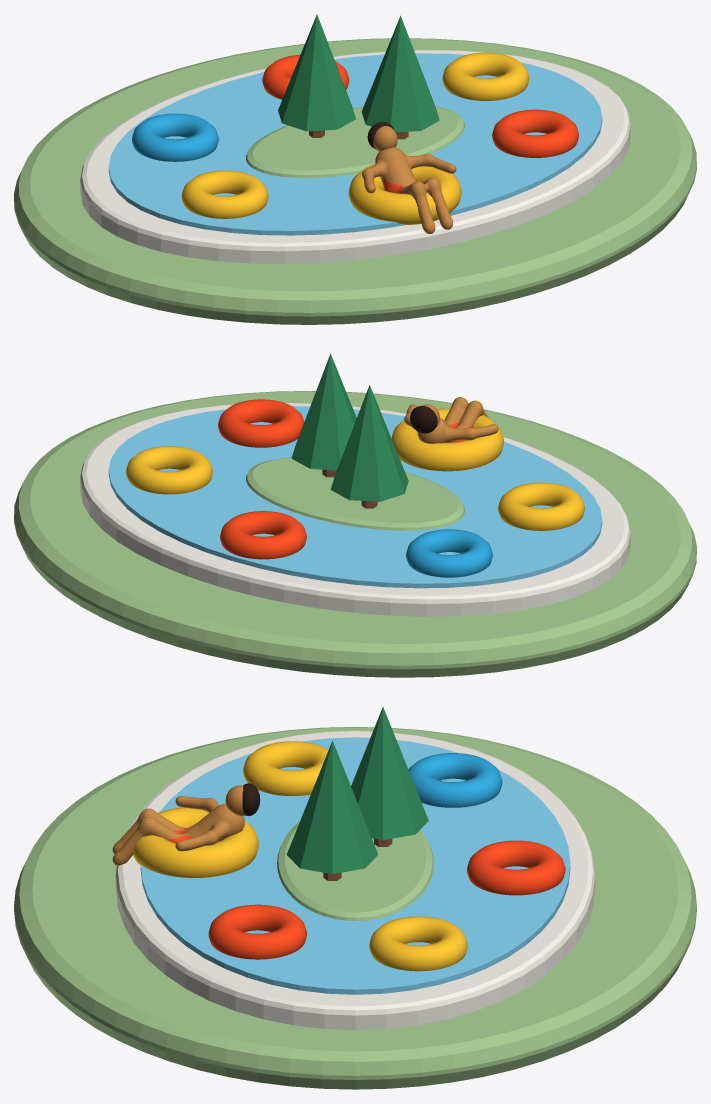
File: 02-lazy-river.glb
3 views of the same model, one above another, from view 1: azimuth 30°, elevation 25°; view 2: azimuth 150°, elevation 25°; view 3: azimuth 270°, elevation 25° (orthographic). The views are drawn at different scales.
Visible parts, largest first — view 1: Base.001, River Water, River Deck, Island, Island Pine, Island Pine.001, Body 001, Inner Tube.002, Inner Tube, Inner Tube.003, Inner Tube.005, Inner Tube.004 (+2 smaller); view 2: Base.001, River Water, River Deck, Island, Island Pine, Island Pine.001, Inner Tube.004, Inner Tube.003, Inner Tube, Inner Tube.001, Inner Tube.002, Inner Tube.005 (+2 smaller); view 3: Base.001, River Water, River Deck, Island, Island Pine.001, Island Pine, Inner Tube.004, Inner Tube.005, Inner Tube.001, Inner Tube, Inner Tube.002, Body 001 (+1 smaller).
Part boxes in pixels (box(x1,y1,x2,y2)): Base.001: box(14, 38, 696, 324); River Water: box(108, 53, 602, 235); River Deck: box(80, 50, 630, 264); Island: box(246, 106, 464, 177); Island Pine: box(278, 14, 355, 131); Island Pine.001: box(361, 15, 439, 132); Body 001: box(362, 147, 456, 233); Inner Tube.002: box(132, 113, 218, 161); Inner Tube: box(442, 52, 529, 100); Inner Tube.003: box(181, 170, 268, 218); Inner Tube.005: box(492, 109, 578, 157); Inner Tube.004: box(348, 164, 461, 224); Base.001: box(14, 391, 696, 677); River Water: box(108, 406, 602, 588); River Deck: box(80, 402, 630, 616); Island: box(246, 457, 464, 530); Island Pine: box(330, 385, 408, 501); Island Pine.001: box(291, 353, 356, 470); Inner Tube.004: box(391, 408, 504, 471); Inner Tube.003: box(498, 482, 584, 530); Inner Tube: box(126, 446, 212, 494); Inner Tube.001: box(220, 511, 306, 559); Inner Tube.002: box(406, 529, 492, 577); Inner Tube.005: box(218, 399, 304, 447); Base.001: box(14, 727, 696, 1089); River Water: box(140, 737, 570, 994); River Deck: box(115, 730, 595, 1030); Island: box(277, 821, 433, 920); Island Pine.001: box(286, 740, 378, 873); Island Pine: box(351, 707, 428, 840); Inner Tube.004: box(133, 807, 258, 877); Inner Tube.005: box(208, 904, 306, 959); Inner Tube.001: box(467, 840, 565, 895); Inner Tube: box(369, 916, 467, 971); Inner Tube.002: box(408, 753, 502, 807); Body 001: box(112, 796, 244, 865).
Size of the model in its own units: 3.5 by 0.99 by 2.97.
